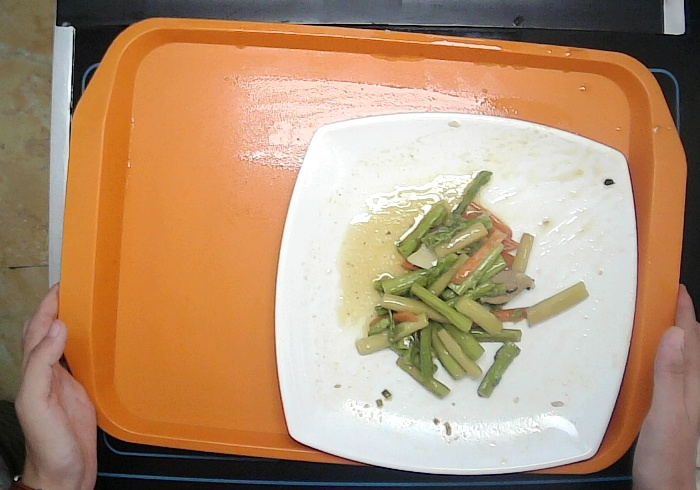ZNLD-Bai_Fang_Pan: (267, 104, 643, 483)
